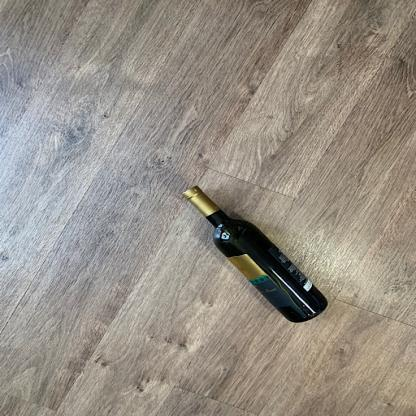trash: (181, 184, 331, 325)
